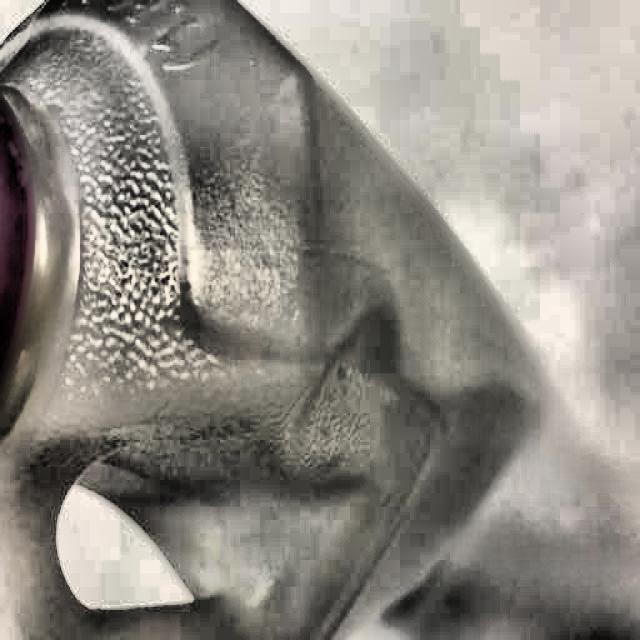plastic: (0, 4, 520, 632)
